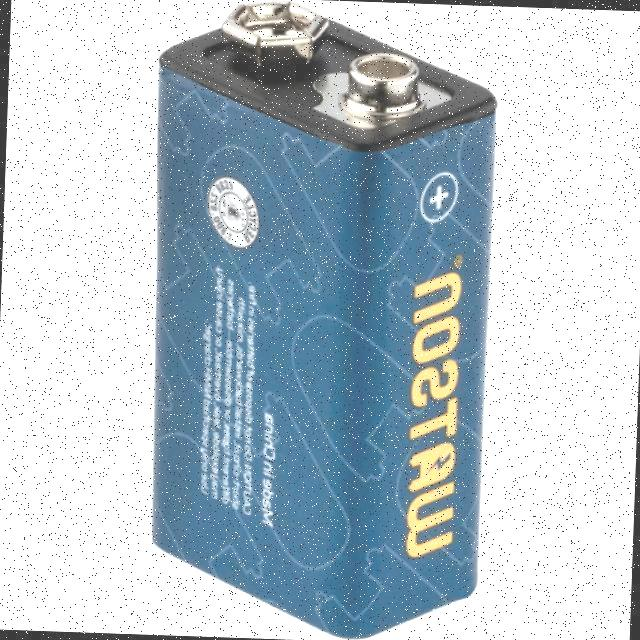9V: (151, 1, 497, 637)
